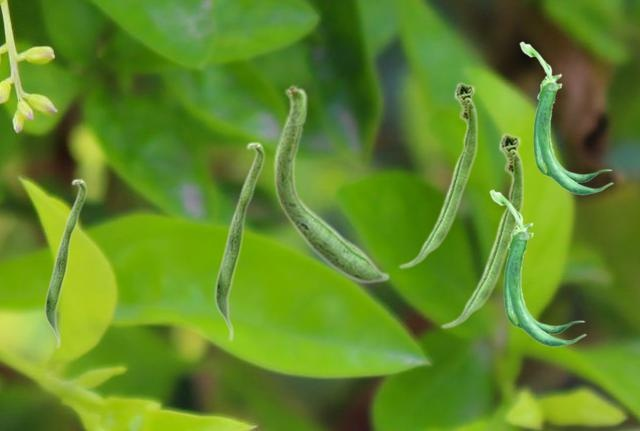french_bean: (273, 83, 389, 283), (440, 132, 523, 328), (489, 189, 585, 346), (398, 81, 477, 268), (519, 41, 612, 194), (214, 141, 264, 341), (44, 178, 86, 348)
